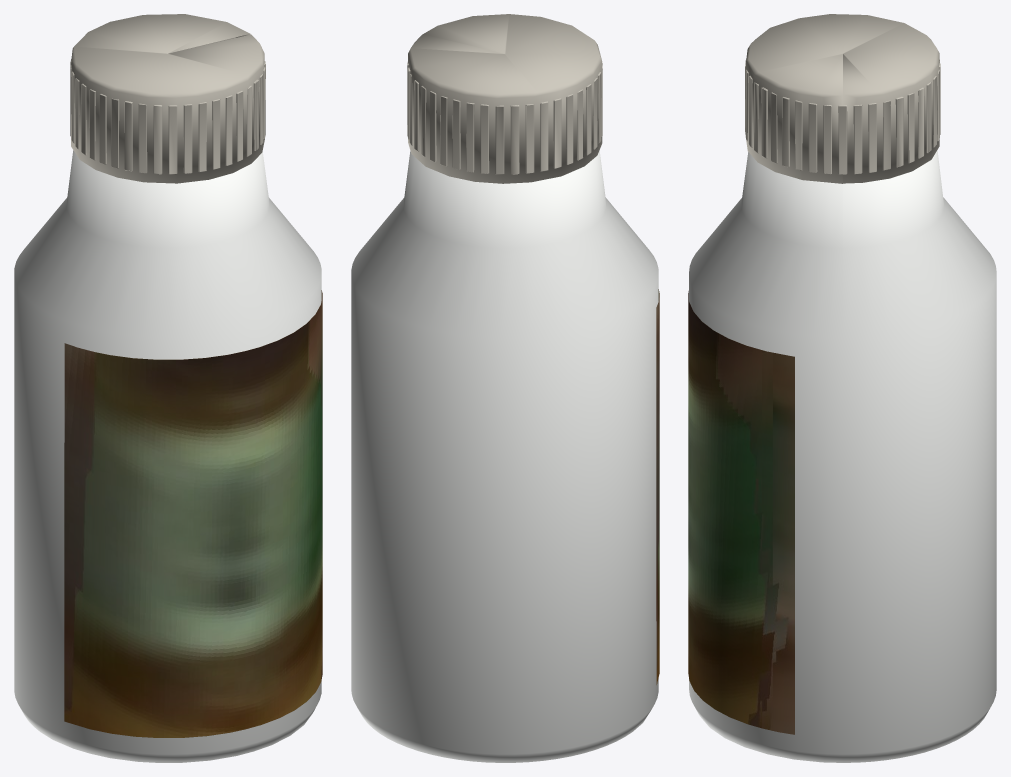
3 renders of one model, left to right at view 1: azimuth 30°, elevation 25°; view 2: azimuth 150°, elevation 25°; view 3: azimuth 270°, elevation 25°, orthographic.
Parts seen in each view (by area): view 1: small_spice_bottle__body, small_spice_bottle__cap; view 2: small_spice_bottle__body, small_spice_bottle__cap; view 3: small_spice_bottle__body, small_spice_bottle__cap.
Boxes of the visible parts, <box> form: small_spice_bottle__body: <box>14,150,322,762</box>; small_spice_bottle__cap: <box>70,14,265,183</box>; small_spice_bottle__body: <box>351,150,659,762</box>; small_spice_bottle__cap: <box>407,14,602,183</box>; small_spice_bottle__body: <box>688,150,996,762</box>; small_spice_bottle__cap: <box>745,14,940,183</box>.
Bounding box in the file's own units: 0.0491 × 0.1139 × 0.0492.
Materials: 4 (1 with a texture image).
